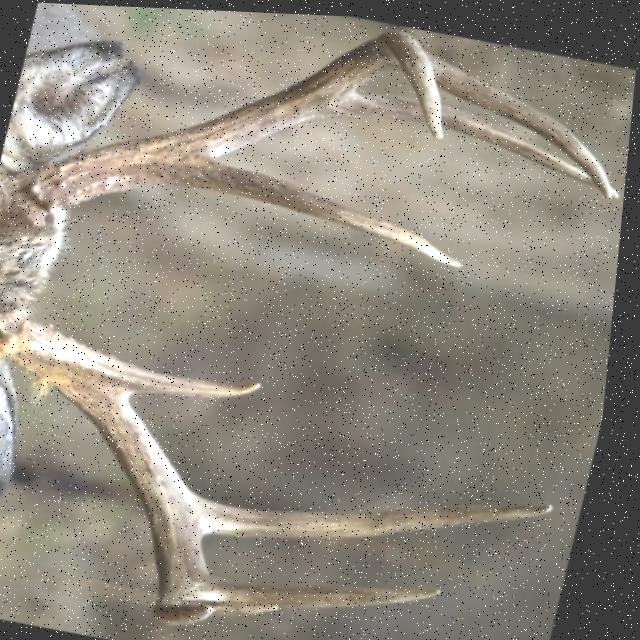L-F: (42, 29, 442, 202)
L-G1: (152, 157, 467, 260)
L-G3: (430, 50, 621, 189)
R-F: (10, 322, 227, 625)
R-G1: (115, 355, 273, 394)
R-G2: (213, 497, 565, 535)
R-G3: (220, 572, 454, 604)
